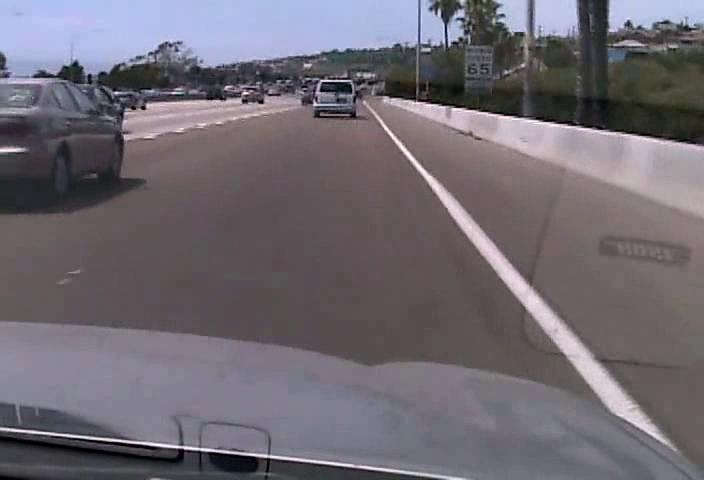speedLimit65: (463, 43, 494, 79)
